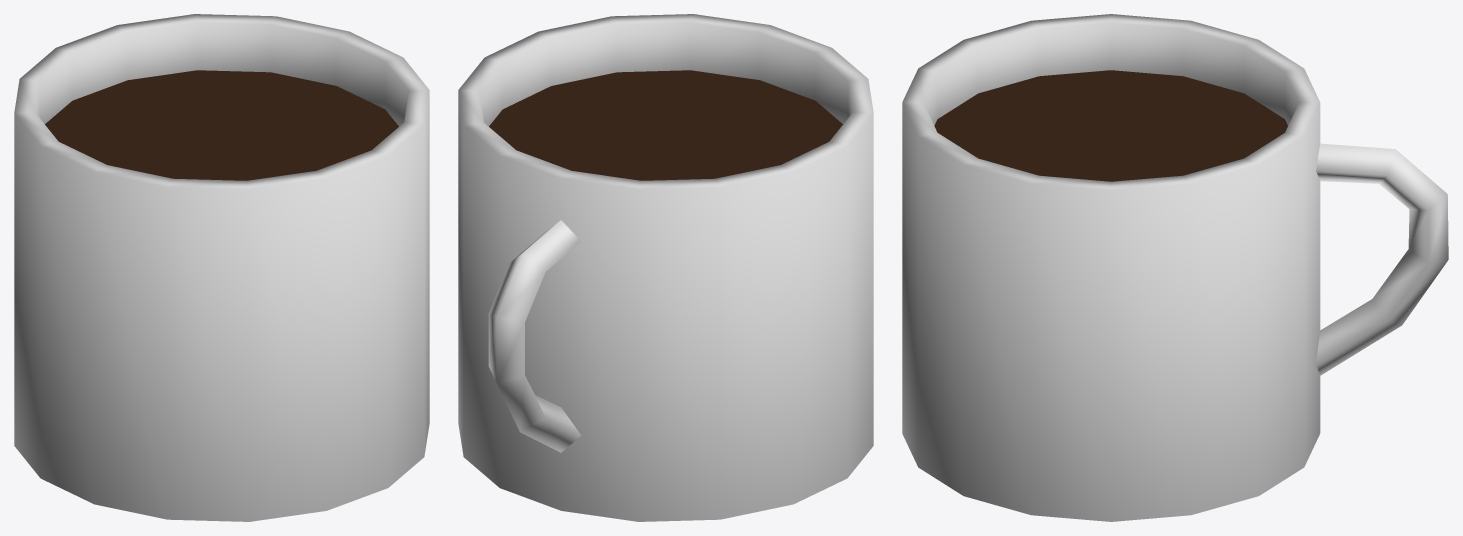
The model's file is mug.glb.
3 views of the same model, side by side, from view 1: azimuth 30°, elevation 25°; view 2: azimuth 150°, elevation 25°; view 3: azimuth 270°, elevation 25° (orthographic).
Parts seen in each view (by area): view 1: Cylinder; view 2: Cylinder, NurbsCurve; view 3: Cylinder, NurbsCurve.
Part boxes in pixels (x1,y1,x2,y2): Cylinder: (14,14,429,521); Cylinder: (458,14,873,521); NurbsCurve: (488,220,581,452); Cylinder: (902,14,1320,521); NurbsCurve: (1316,143,1448,375).
Size of the model in its own units: 0.08 by 0.07 by 0.1046.
